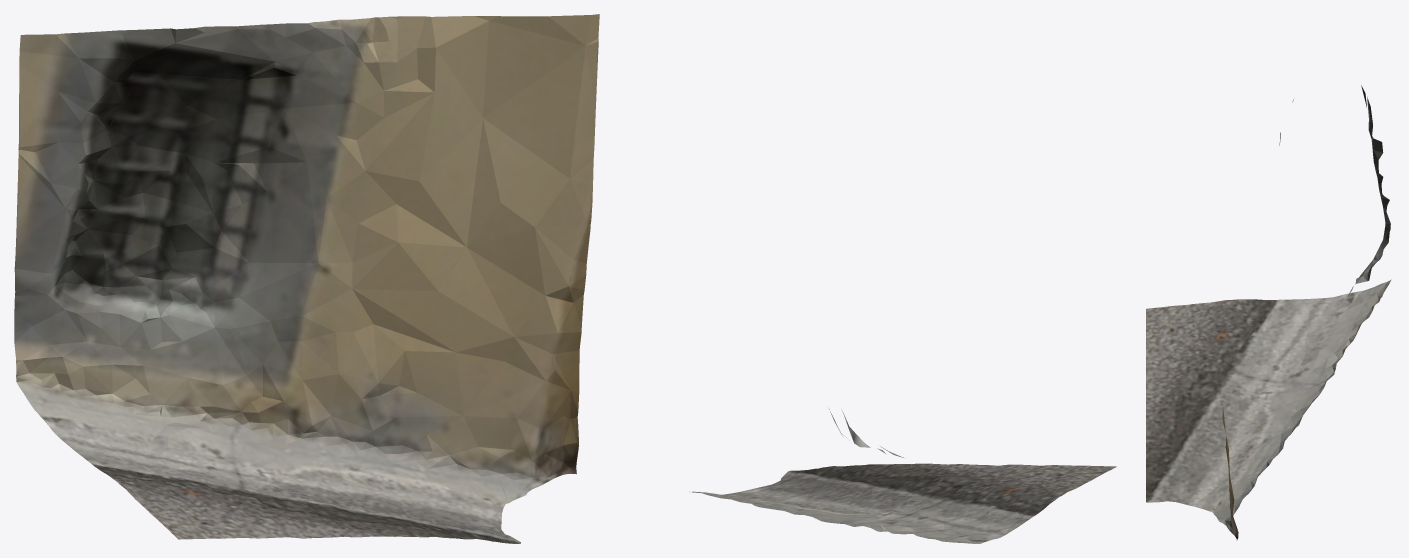
3 views of the same model, side by side, from view 1: azimuth 30°, elevation 25°; view 2: azimuth 150°, elevation 25°; view 3: azimuth 270°, elevation 25° (orthographic). The views are drawn at different scales.
Bounding box in the file's own units: 1.67 × 1.67 × 1.05.
Materials: 3 (3 with a texture image).
